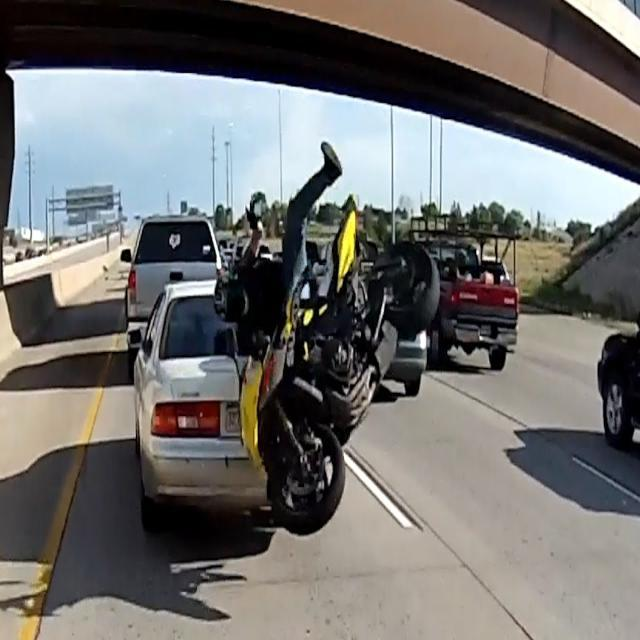high-motorcycle-accident: (127, 135, 498, 551)
victim: (187, 123, 351, 393)
